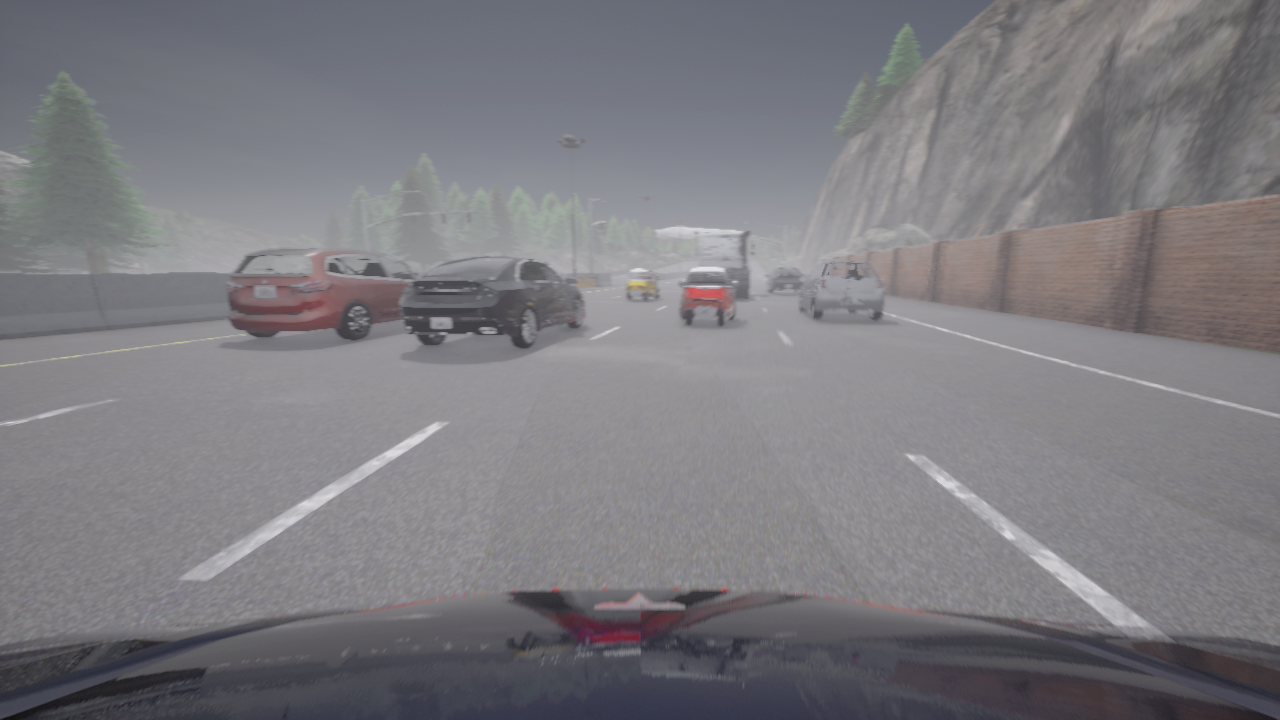cyclist: (0, 588, 1279, 719), (226, 248, 423, 340), (400, 255, 584, 348), (799, 261, 884, 320), (696, 230, 755, 299), (679, 266, 737, 326), (766, 268, 804, 294), (626, 270, 658, 300)
